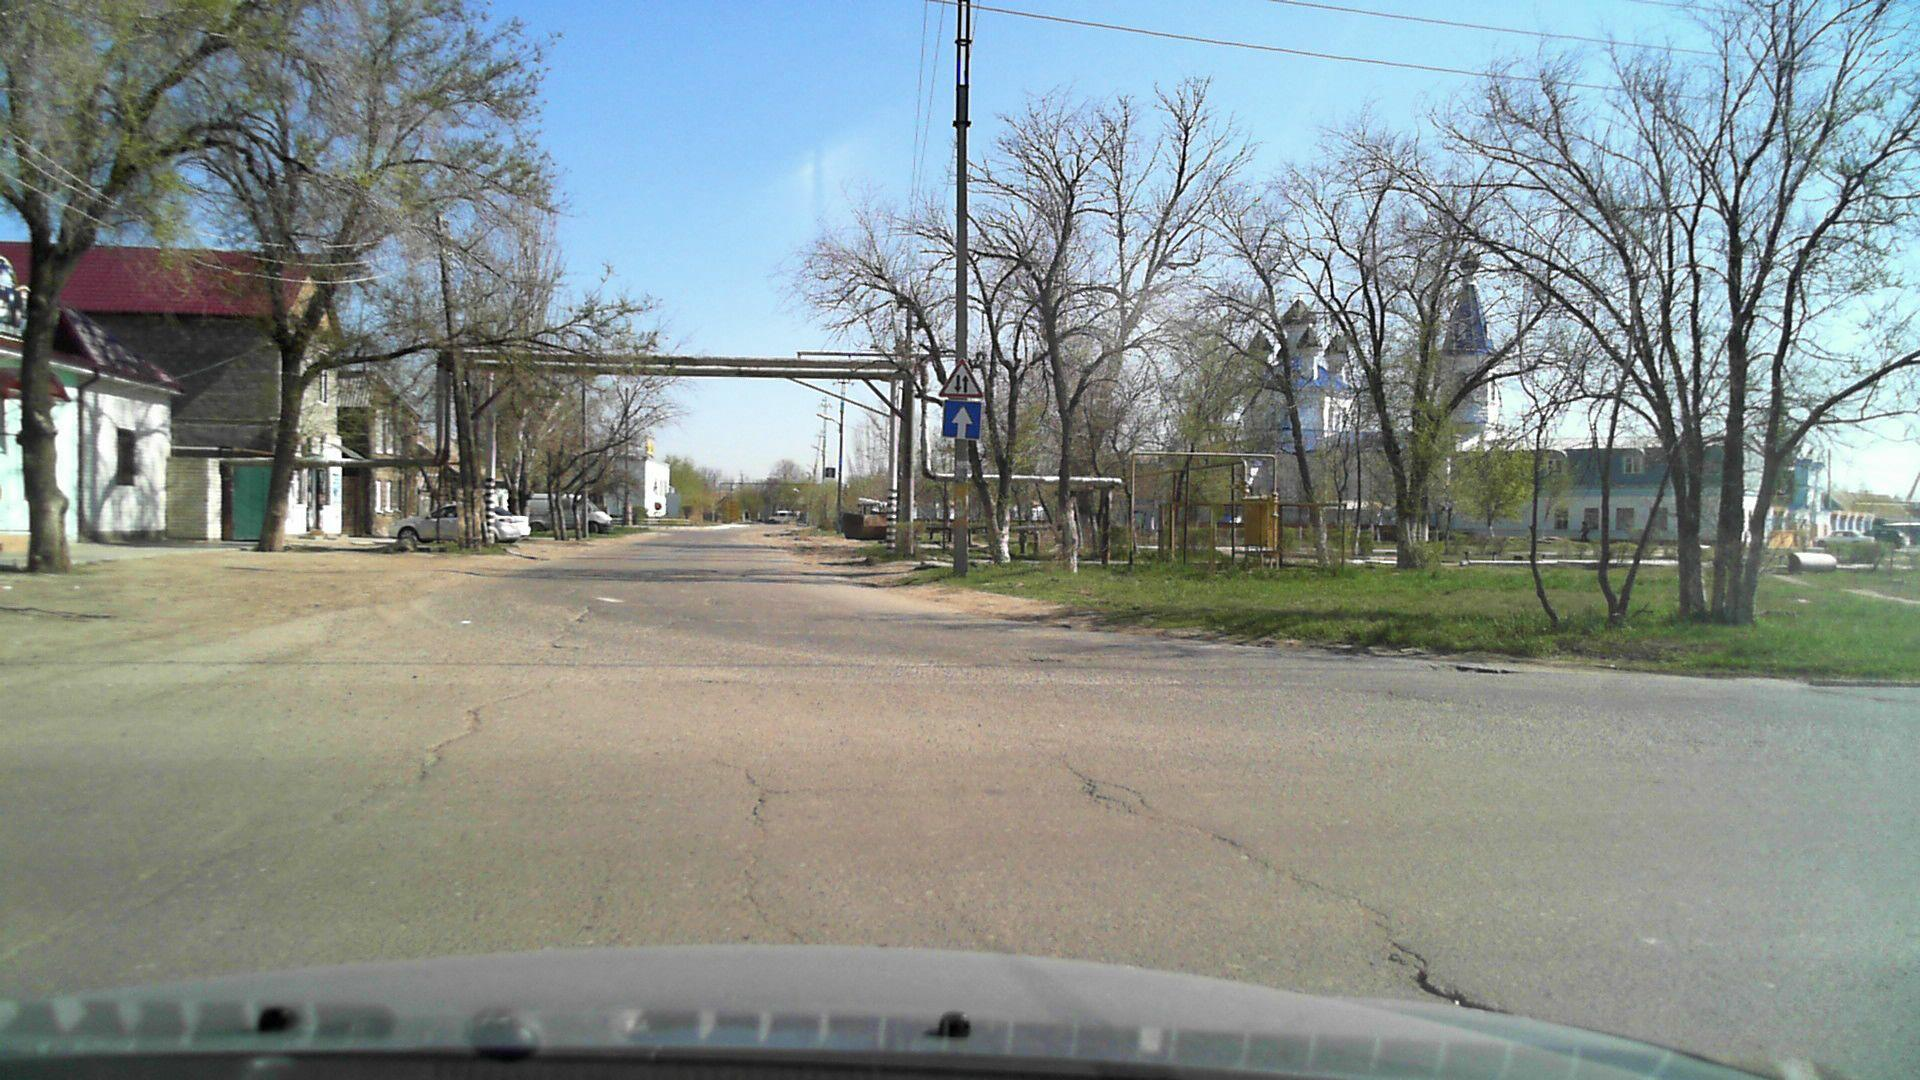1_21: (938, 358, 982, 399)
5_5: (939, 398, 984, 443)
5_6: (824, 465, 838, 481)
